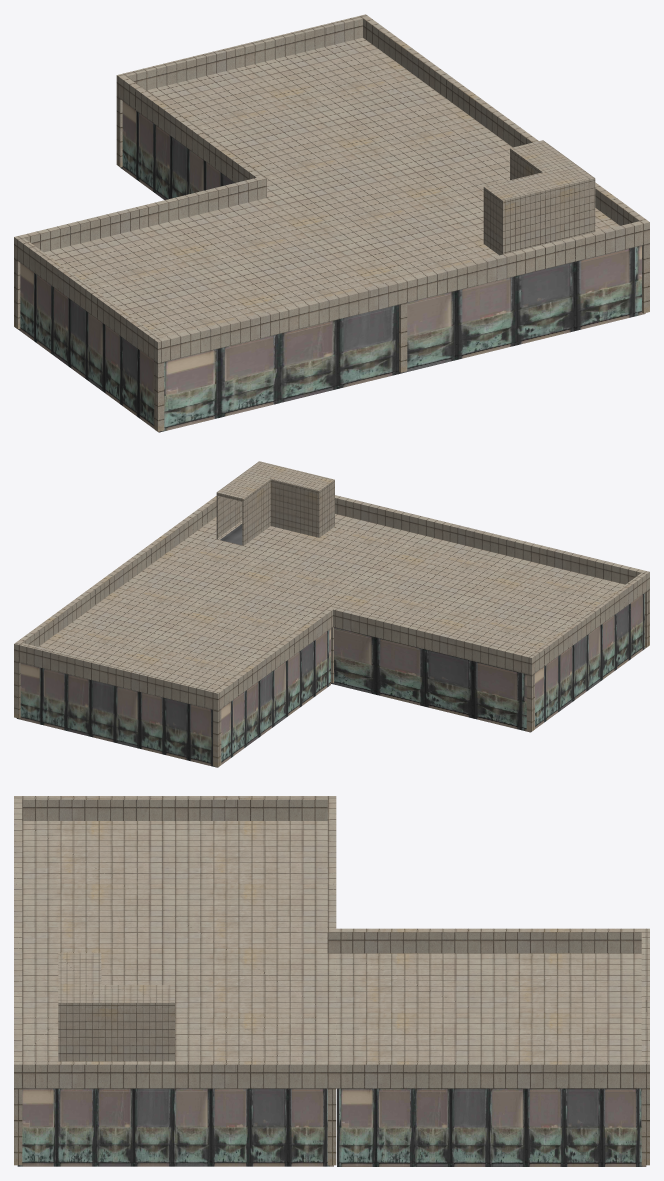
File: BagSS09top_0.fbx
3 renders of one model, top to bottom at view 1: azimuth 30°, elevation 25°; view 2: azimuth 150°, elevation 25°; view 3: azimuth 270°, elevation 25°, orthographic. The views are drawn at different scales.
Visible parts, largest first — view 1: topCrete0, topBox0; view 2: topCrete0, topBox0; view 3: topCrete0, topBox0.
Boxes of the visible parts, x1,y1,x2,y2 form: topCrete0: (14, 14, 649, 431); topBox0: (18, 101, 645, 432); topCrete0: (14, 461, 649, 766); topBox0: (16, 524, 646, 767); topCrete0: (14, 796, 649, 1165); topBox0: (17, 1088, 646, 1166).
Size of the model in its own units: 40.92 by 10.35 by 40.92.
